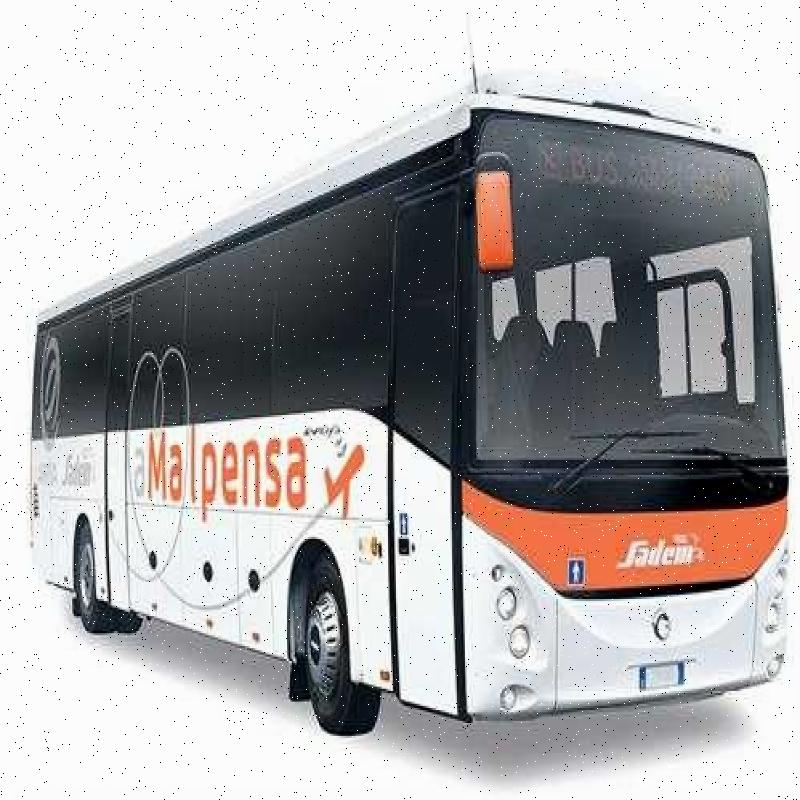bus: (32, 34, 800, 775)
